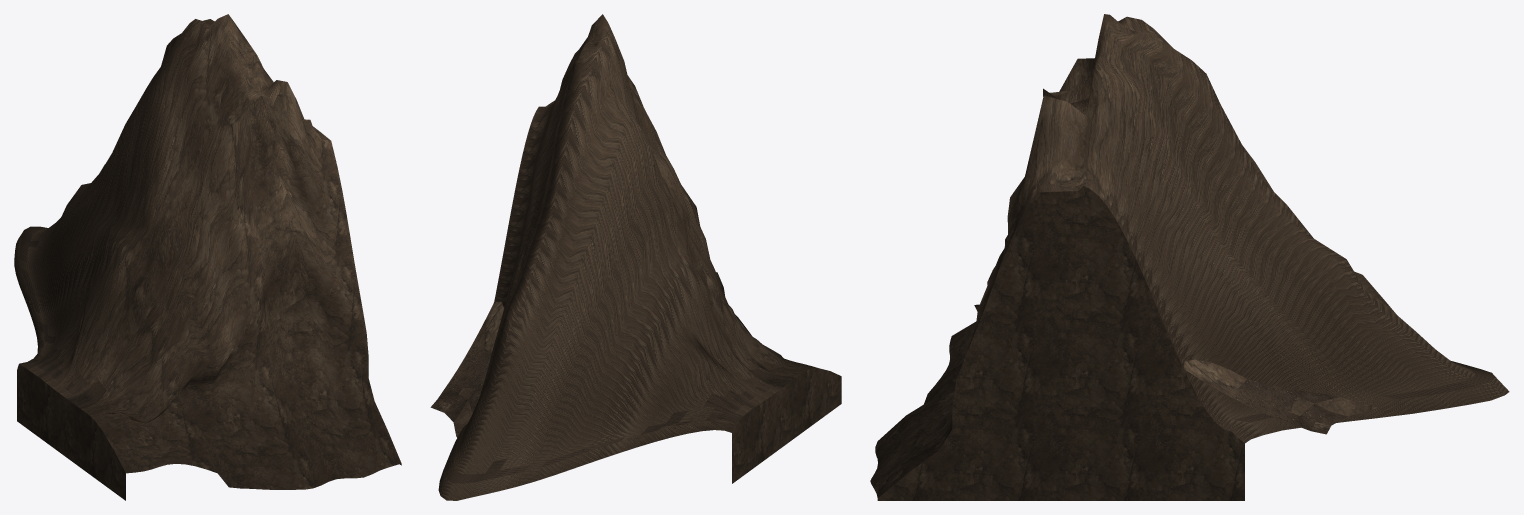
The model's file is seacliff_endcap_left_h5_a_v5_dead.glb.
3 views of the same model, side by side, from view 1: azimuth 30°, elevation 25°; view 2: azimuth 150°, elevation 25°; view 3: azimuth 270°, elevation 25° (orthographic). The views are drawn at different scales.
Parts seen in each view (by area): view 1: seacliff_endcap_left_h5_a; view 2: seacliff_endcap_left_h5_a; view 3: seacliff_endcap_left_h5_a.
Boxes of the visible parts, <box> form: seacliff_endcap_left_h5_a: <box>14,14,401,500</box>; seacliff_endcap_left_h5_a: <box>430,14,841,500</box>; seacliff_endcap_left_h5_a: <box>870,14,1509,500</box>.
Bounding box in the file's own units: 6 × 9.35 × 12.12.
Materials: 2 (2 with a texture image).
